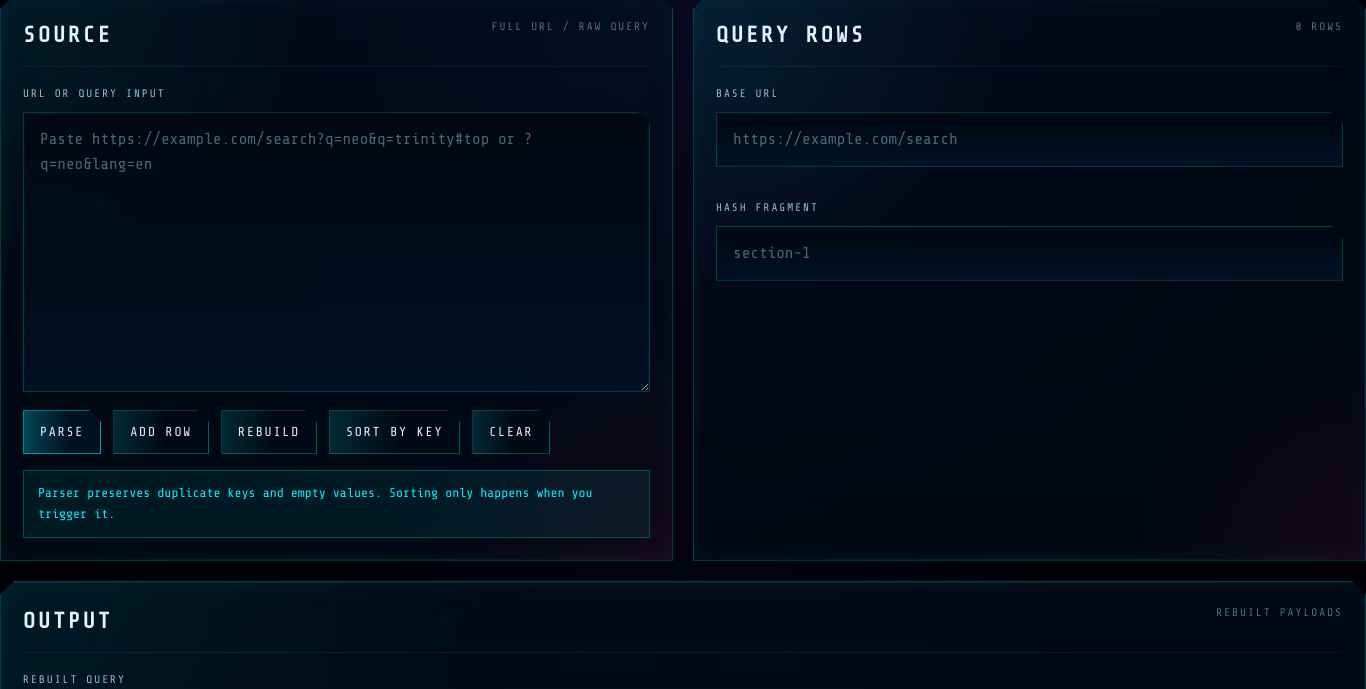
parser tools › supports raw query strings with optional leading question marks
In the text box labelled "URL Or Query Input": (336, 252) [23, 112, 650, 392], type "?draft=1&draft=2#tab"
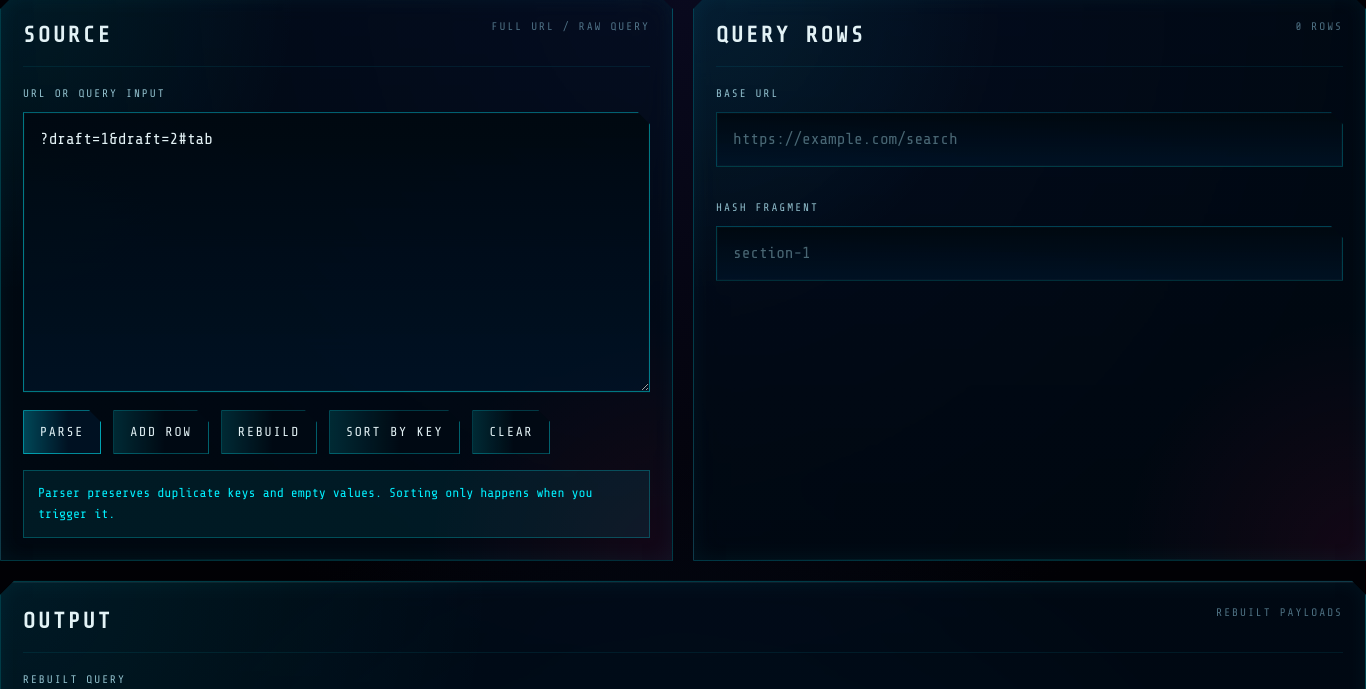
Click the button "Parse": (62, 432) [23, 410, 101, 454]
(page scrolled)
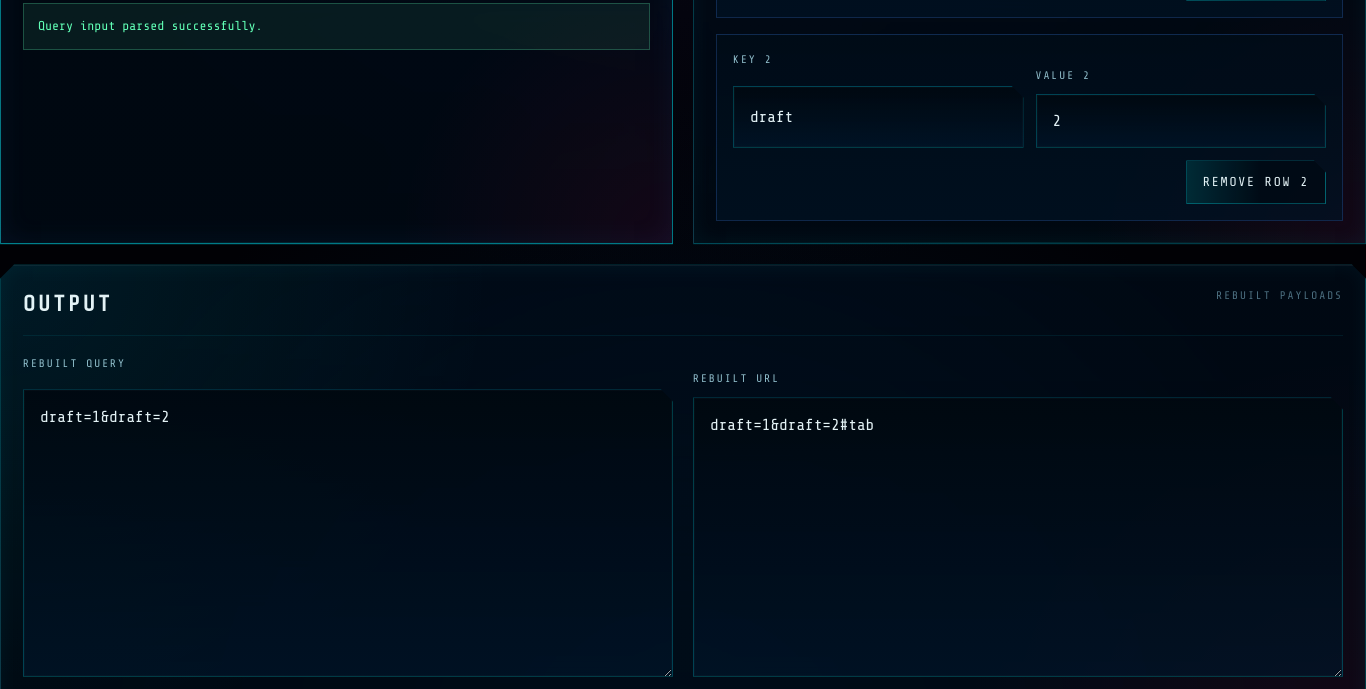
Check: the text box labelled "Rebuilt Query" holds "draft=1&draft=2", box [23, 390, 673, 678]
Check: the text box labelled "Rebuilt URL" holds "draft=1&draft=2#tab", box [693, 398, 1343, 678]
